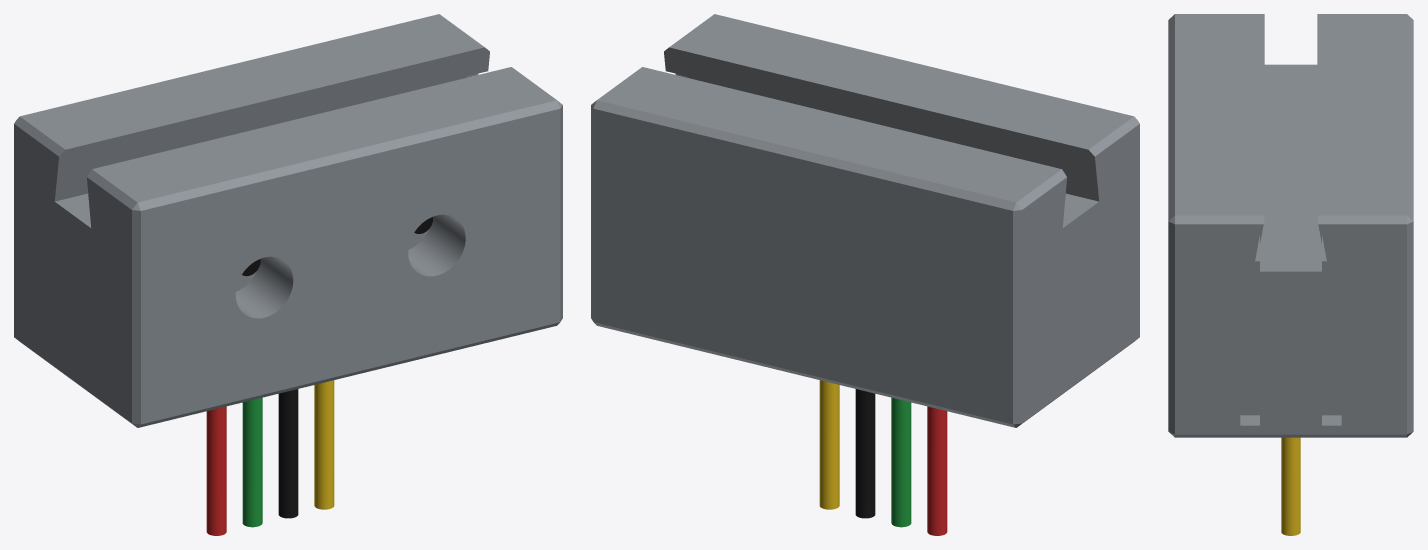
File: ir_track_sensor.glb
3 renders of one model, left to right at view 1: azimuth 30°, elevation 25°; view 2: azimuth 150°, elevation 25°; view 3: azimuth 270°, elevation 25°, orthographic.
Parts seen in each view (by area): view 1: housing, wire_yellow, wire_black, wire_green, wire_red; view 2: housing, wire_yellow, wire_black, wire_green, wire_red; view 3: housing, wire_yellow.
Part boxes in pixels (x1=…): housing: x1=14, y1=14, x2=562, y2=427; wire_yellow: x1=314, y1=380, x2=334, y2=509; wire_black: x1=278, y1=389, x2=298, y2=518; wire_green: x1=242, y1=397, x2=262, y2=527; wire_red: x1=206, y1=406, x2=226, y2=535; housing: x1=591, y1=14, x2=1139, y2=427; wire_yellow: x1=819, y1=380, x2=839, y2=509; wire_black: x1=855, y1=389, x2=875, y2=518; wire_green: x1=891, y1=397, x2=911, y2=527; wire_red: x1=927, y1=406, x2=947, y2=535; housing: x1=1168, y1=14, x2=1413, y2=437; wire_yellow: x1=1281, y1=437, x2=1300, y2=535.
Size of the model in its own units: 0.03 by 0.027 by 0.015.
